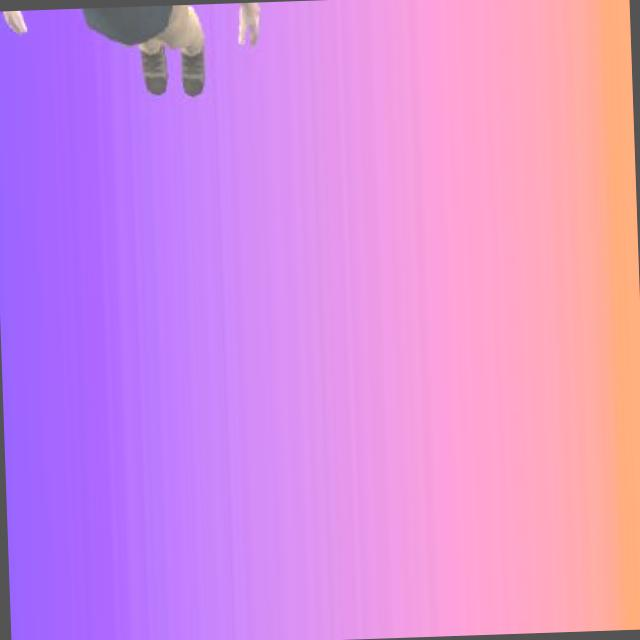Person: (0, 1, 274, 108)
